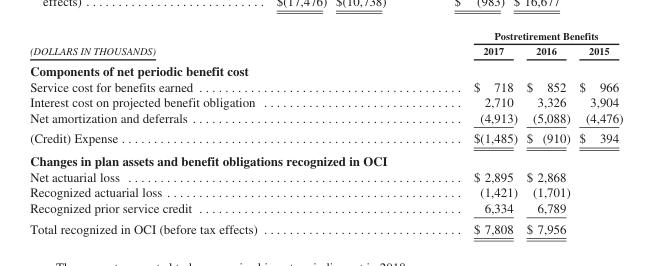table: (29, 29, 622, 235)
table column: (29, 29, 364, 235), (364, 29, 521, 235), (521, 29, 574, 235), (574, 29, 622, 235)
table column header: (29, 29, 622, 59)
table projected row header: (29, 59, 622, 78), (29, 149, 622, 168)
table row: (29, 127, 622, 149), (29, 59, 622, 78), (29, 149, 622, 168), (29, 109, 622, 127), (29, 199, 622, 217), (29, 217, 622, 235), (29, 42, 622, 59), (29, 93, 622, 109), (29, 168, 622, 184), (29, 78, 622, 93), (29, 184, 622, 199), (29, 29, 622, 42)
table spanning cell: (29, 29, 364, 59), (364, 29, 622, 42)
